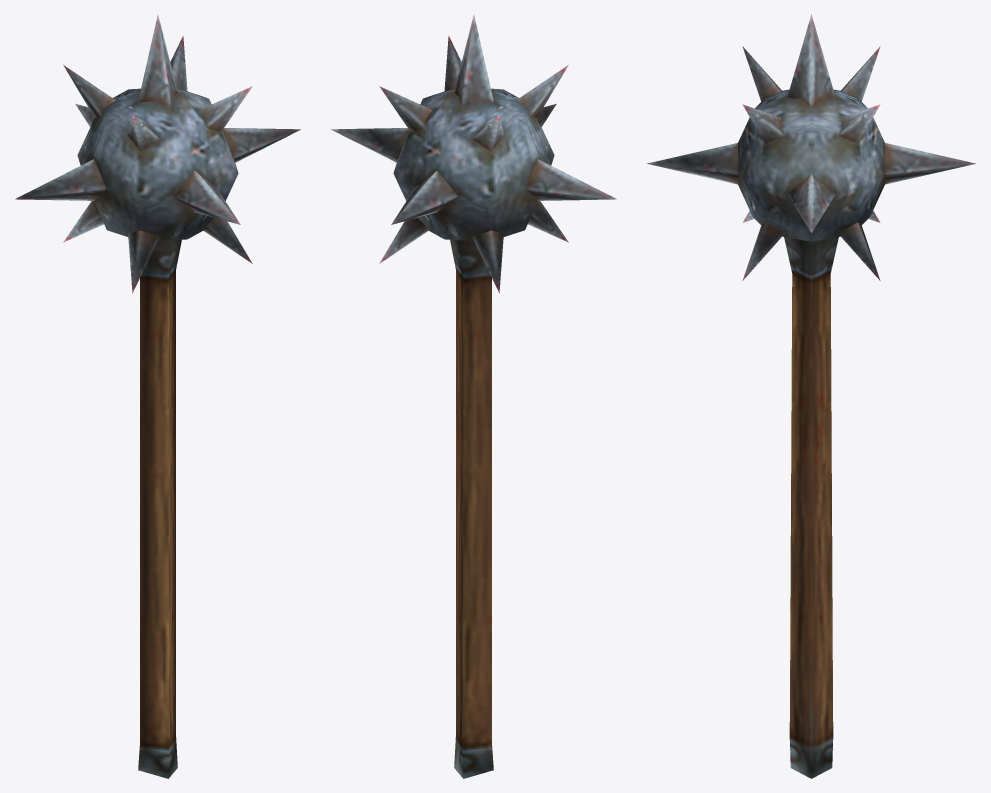
File: Mace05.FBX
The picture shows the model from 3 angles, left to right: view 1: azimuth 30°, elevation 25°; view 2: azimuth 150°, elevation 25°; view 3: azimuth 270°, elevation 25°; orthographic projection.
Visible parts, largest first — view 1: Mace05; view 2: Mace05; view 3: Mace05.
Boxes of the visible parts, x1,y1,x2,y2 form: Mace05: (15, 15, 300, 778); Mace05: (331, 15, 616, 778); Mace05: (647, 14, 975, 778).
Bounding box in the file's own units: 31.98 × 80.68 × 31.98.
